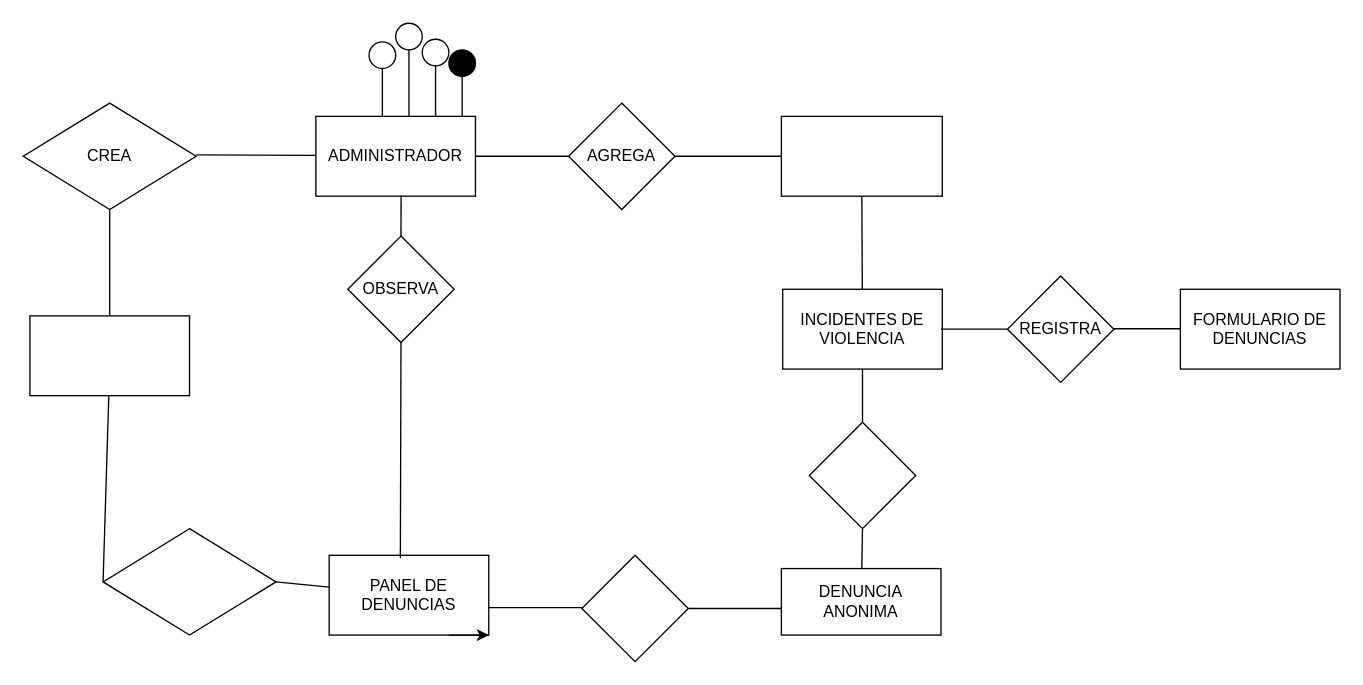
Some shapes in this 1363 by 685 pixel diagram are drawn without their labels. The shapes that lost their labels are listed below. From the top down, each one's centre as x and y in pixels, then its label:
At point (861, 155): "ARTICULO INFORMATIVO".
At point (109, 355): "USUARIOS".
At point (862, 475): "REALIZA".
At point (189, 581): "se envía al sistema".
At point (634, 608): "REGISTRA_DA".
